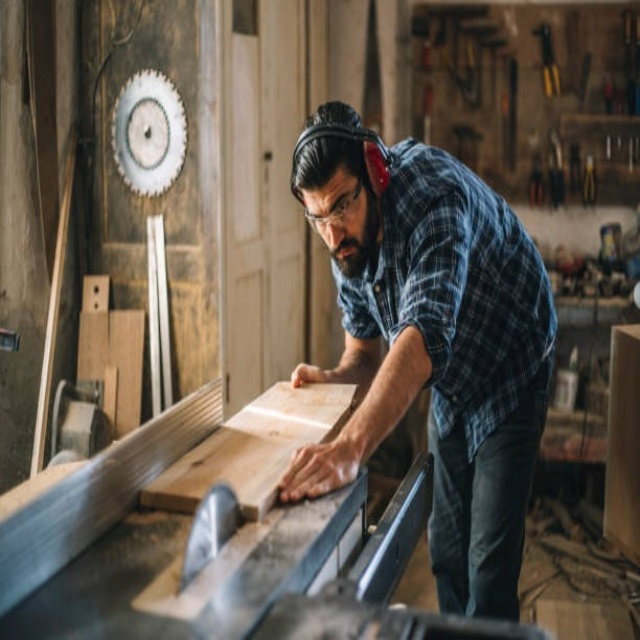Gafas: (306, 178, 364, 228)
Sin_guantes: (276, 437, 358, 502), (289, 355, 327, 392)
Sin_mascara: (326, 240, 360, 275)
